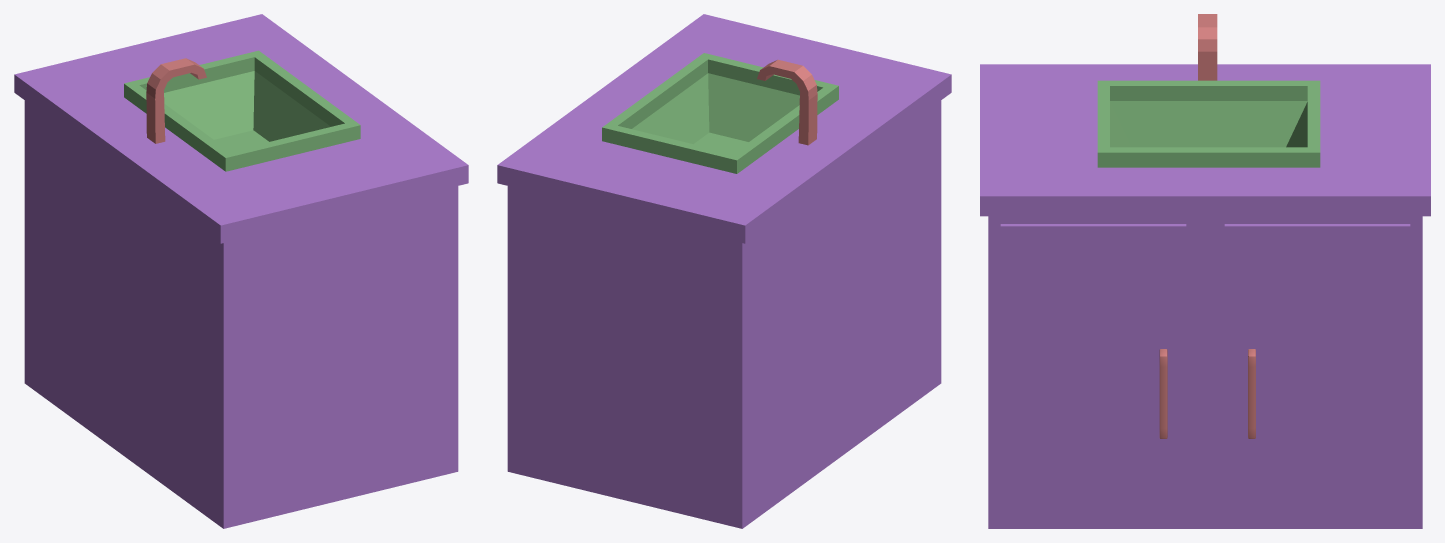
File: lavabo.fbx
3 views of the same model, side by side, from view 1: azimuth 30°, elevation 25°; view 2: azimuth 150°, elevation 25°; view 3: azimuth 270°, elevation 25° (orthographic). The views are drawn at different scales.
Parts seen in each view (by area): view 1: Box039; view 2: Box039; view 3: Box039.
Boxes of the visible parts, <box> form: Box039: <box>14,14,468,528</box>; Box039: <box>497,14,951,528</box>; Box039: <box>980,14,1430,528</box>.
Bounding box in the file's own units: 60.56 × 84.52 × 83.73.
